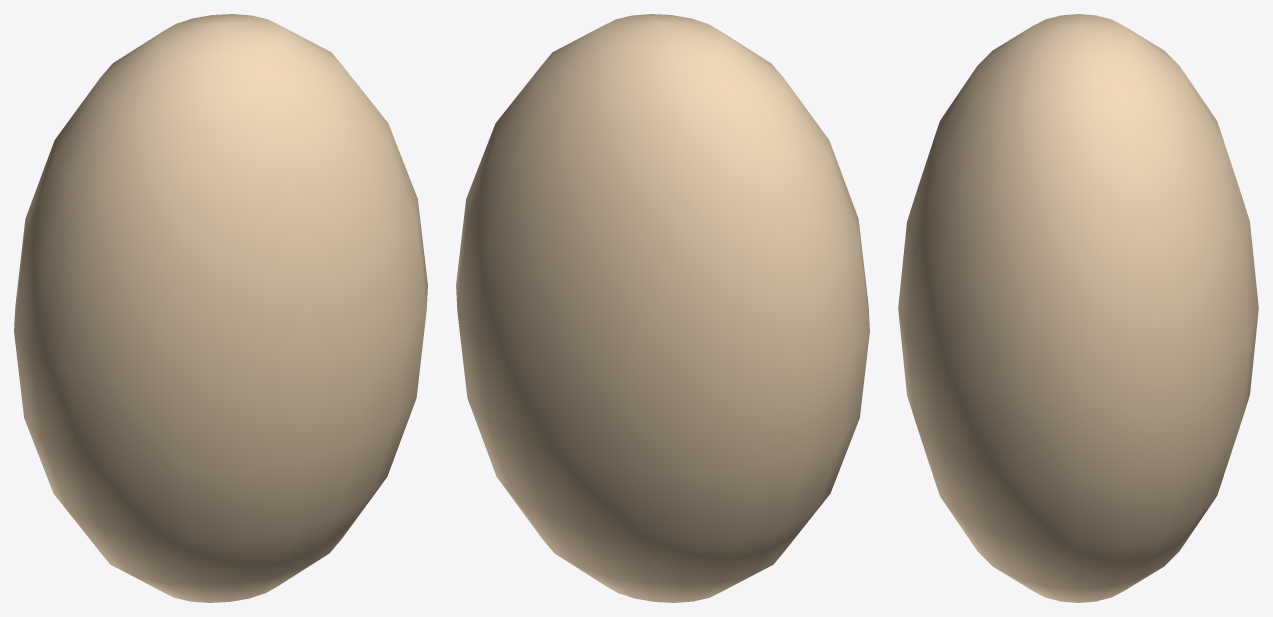
Rendered from baseline.glb.
The picture shows the model from 3 angles, left to right: view 1: azimuth 30°, elevation 25°; view 2: azimuth 150°, elevation 25°; view 3: azimuth 270°, elevation 25°; orthographic projection.
Parts seen in each view (by area): view 1: body; view 2: body; view 3: body.
Boxes of the visible parts, x1,y1,x2,y2 form: body: [14, 14, 427, 602]; body: [456, 14, 869, 602]; body: [898, 14, 1258, 602].
Size of the model in its own units: 0.125 by 0.18 by 0.105.
